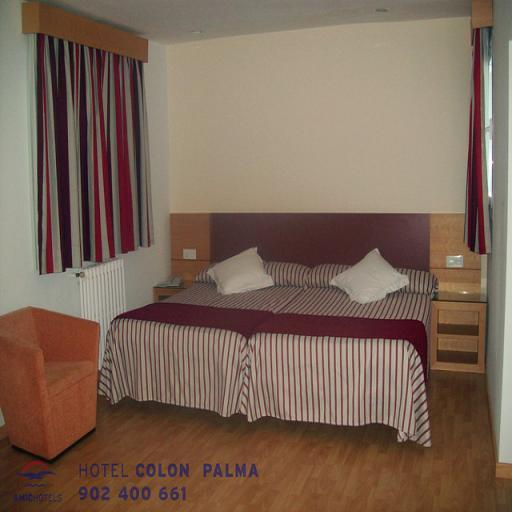bed: (77, 219, 478, 449)
